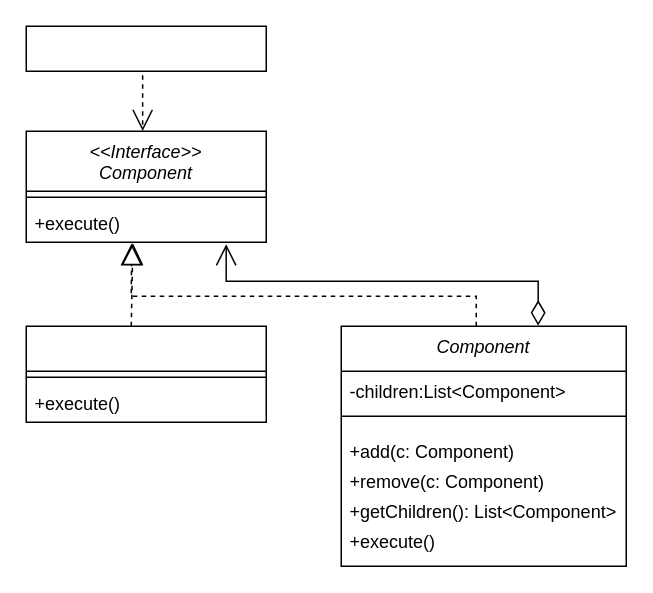
This 653x593 diagram has some shape labels left out. The box of each missing label's shape, as (x1, y1, x2, y2) in pixels:
Client: (25, 25, 266, 71)
Leaf: (25, 325, 266, 422)
